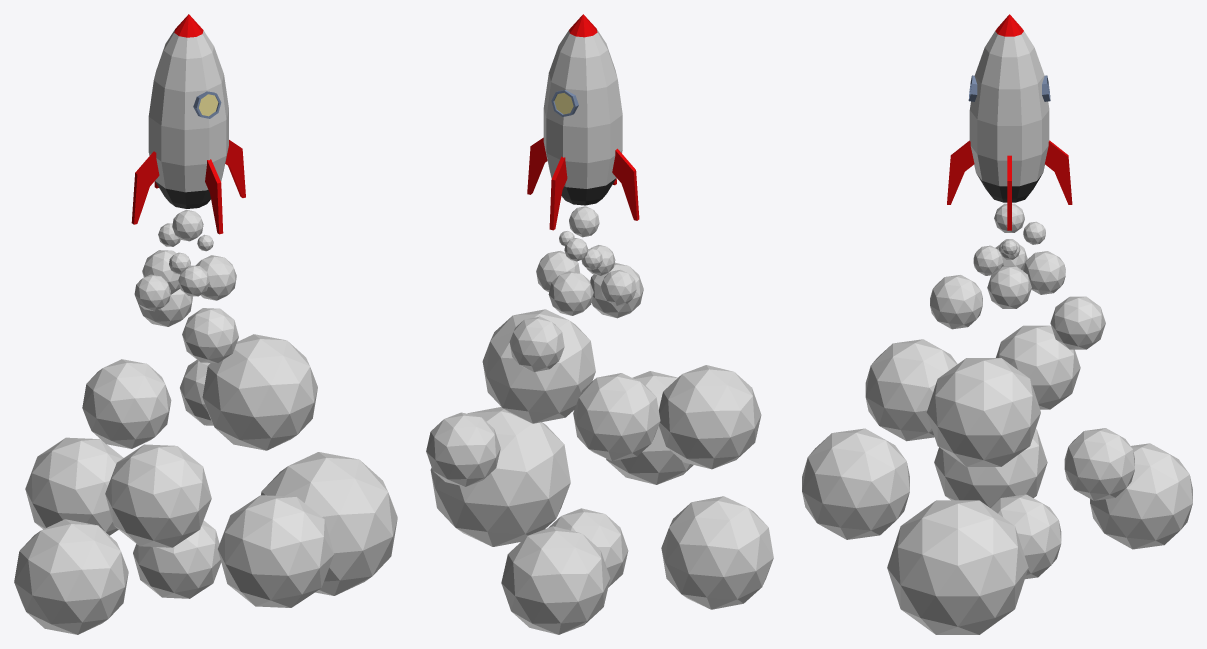
File: LowPolyRocket.glb
The picture shows the model from 3 angles, left to right: view 1: azimuth 30°, elevation 25°; view 2: azimuth 150°, elevation 25°; view 3: azimuth 270°, elevation 25°; orthographic projection. The views are drawn at different scales.
Parts seen in each view (by area): view 1: Icosphere.001, Rocket, Fins, Fins.001, Window; view 2: Icosphere.001, Rocket, Fins, Fins.001, Window; view 3: Icosphere.001, Rocket, Fins.001.
Part boxes in pixels (x1,y1,x2,y2): Icosphere.001: [14, 209, 397, 634]; Rocket: [148, 14, 228, 208]; Fins: [131, 140, 245, 224]; Fins.001: [154, 159, 223, 234]; Window: [193, 91, 221, 118]; Icosphere.001: [426, 206, 773, 634]; Rocket: [543, 14, 622, 205]; Fins: [527, 137, 639, 220]; Fins.001: [549, 156, 616, 230]; Window: [551, 90, 578, 116]; Icosphere.001: [802, 203, 1192, 634]; Rocket: [969, 14, 1049, 202]; Fins.001: [947, 140, 1072, 204].
Size of the model in its own units: 14.69 by 23.69 by 14.82.
